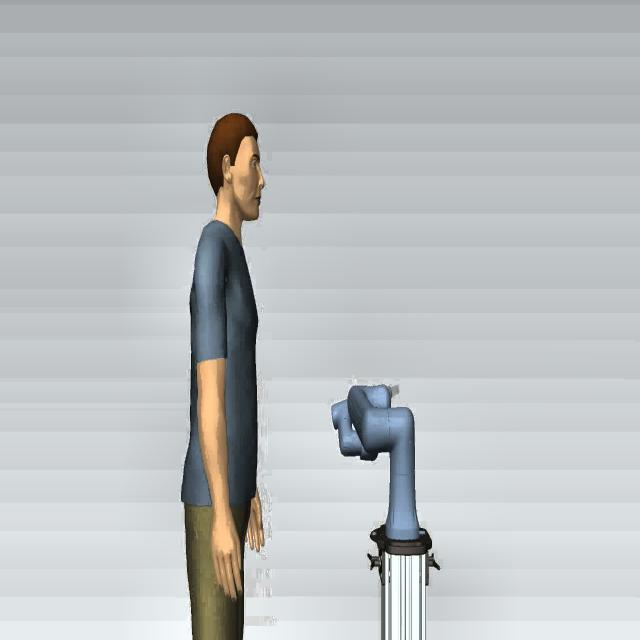robot: (331, 381, 441, 638)
